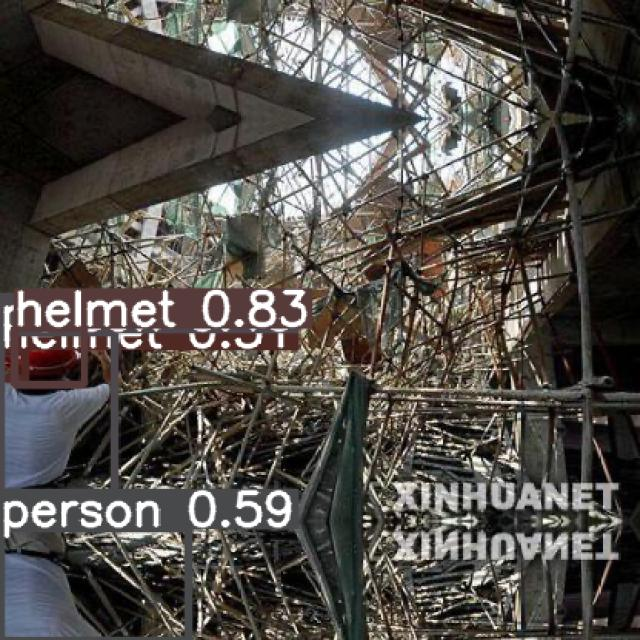helmet: (0, 527, 188, 640), (0, 332, 114, 518), (14, 327, 83, 384), (0, 348, 25, 378)
